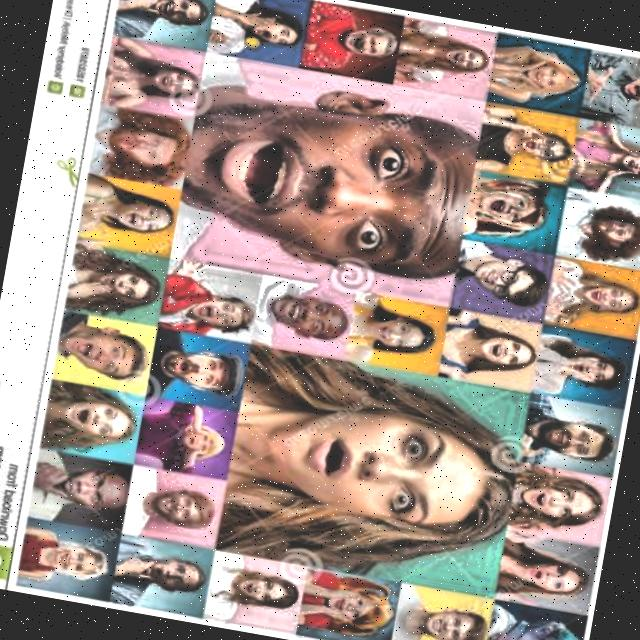surprised: (165, 52, 472, 297), (259, 350, 531, 574), (438, 236, 552, 319), (492, 528, 599, 614), (517, 395, 624, 480), (439, 309, 547, 392), (531, 327, 637, 410), (61, 239, 162, 324), (506, 464, 612, 544), (541, 253, 640, 337), (467, 176, 566, 257), (124, 534, 219, 618), (255, 276, 362, 350), (124, 463, 228, 539), (211, 555, 302, 635), (562, 116, 640, 207), (57, 314, 152, 388), (166, 259, 254, 338), (297, 570, 394, 640), (17, 523, 102, 598), (98, 105, 183, 180), (557, 191, 640, 267), (355, 301, 439, 371), (496, 99, 573, 174), (498, 39, 578, 111), (100, 181, 181, 251), (412, 22, 490, 91), (155, 336, 240, 399), (59, 388, 132, 456), (581, 48, 640, 130), (330, 12, 398, 81), (56, 458, 128, 521), (398, 590, 485, 640), (138, 49, 209, 103), (483, 606, 591, 640), (175, 406, 231, 468)
